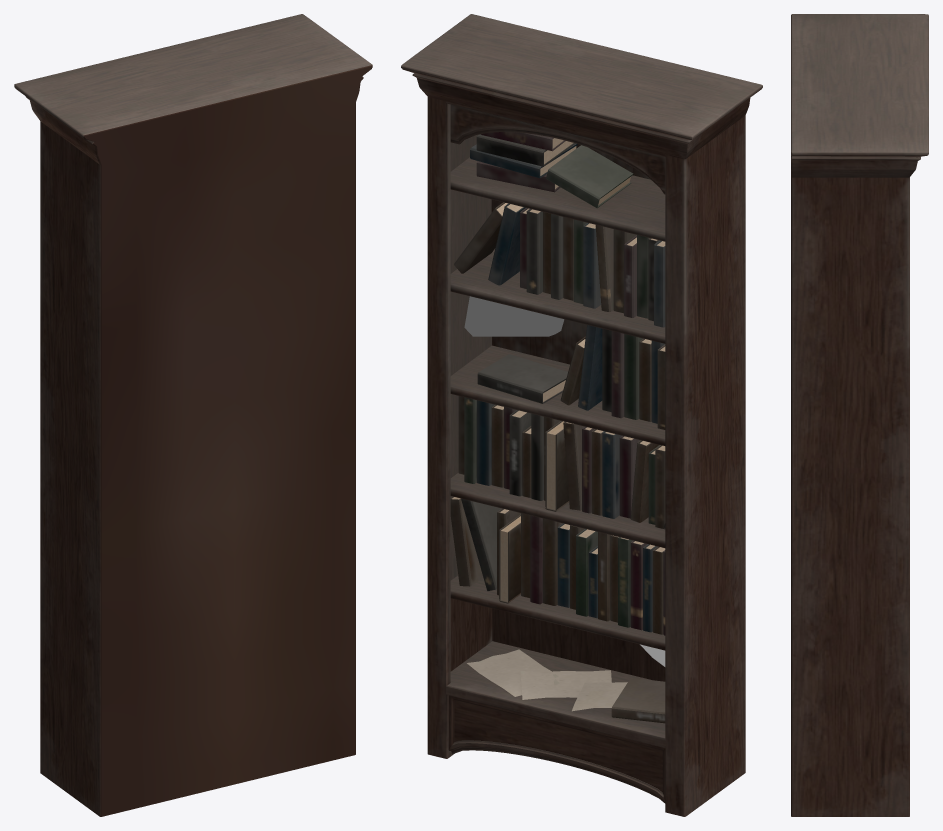
The model's file is Small_Bookshelf.fbx.
3 renders of one model, left to right at view 1: azimuth 30°, elevation 25°; view 2: azimuth 150°, elevation 25°; view 3: azimuth 270°, elevation 25°, orthographic. The views are drawn at different scales.
Visible parts, largest first — view 1: Old_Dusty_Bookshelf; view 2: Old_Dusty_Bookshelf, Old_Dusty_Bookshelf_Spiderwebs; view 3: Old_Dusty_Bookshelf.
Boxes of the visible parts, left/top/right/bottom form: Old_Dusty_Bookshelf: left=14, top=14, right=372, bottom=816; Old_Dusty_Bookshelf: left=401, top=14, right=762, bottom=816; Old_Dusty_Bookshelf_Spiderwebs: left=464, top=296, right=665, bottom=666; Old_Dusty_Bookshelf: left=791, top=14, right=928, bottom=816.
Bounding box in the file's own units: 91.99 × 208 × 38.65.
